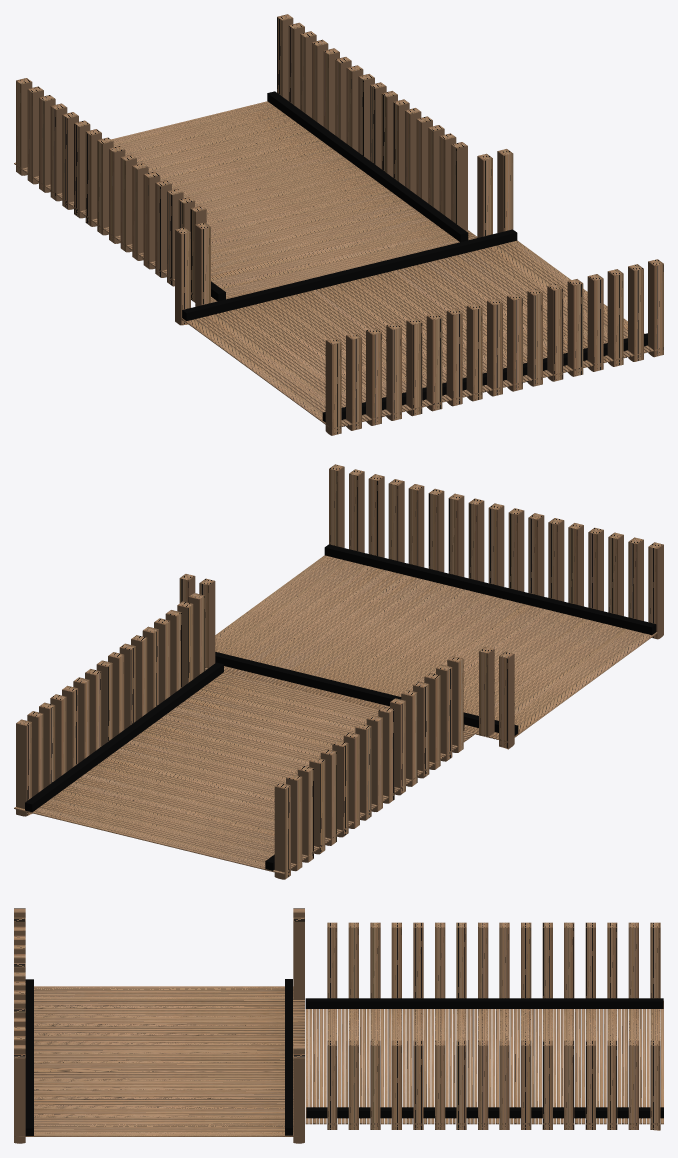
Rendered from pier.gltf.
3 renders of one model, top to bottom at view 1: azimuth 30°, elevation 25°; view 2: azimuth 150°, elevation 25°; view 3: azimuth 270°, elevation 25°, orthographic. The views are drawn at different scales.
Parts seen in each view (by area): view 1: Plane, Plane.001, pier stablizer.001, pier stablizer, pier stablizer 2.001; view 2: Plane, Plane.001, pier stablizer 2.001, pier stablizer, pier stablizer.001; view 3: Plane, Plane.001, pier stablizer 2, pier stablizer, pier stablizer 2.001, pier stablizer.001.
Boxes of the visible parts, bbox=[...] form: Plane: bbox=[14, 14, 477, 302]; Plane.001: bbox=[175, 149, 663, 435]; pier stablizer.001: bbox=[182, 229, 517, 320]; pier stablizer: bbox=[267, 91, 468, 242]; pier stablizer 2.001: bbox=[322, 333, 647, 422]; Plane: bbox=[14, 593, 475, 879]; Plane.001: bbox=[179, 464, 663, 749]; pier stablizer 2.001: bbox=[324, 544, 656, 634]; pier stablizer: bbox=[25, 662, 223, 812]; pier stablizer.001: bbox=[215, 652, 518, 735]; Plane: bbox=[305, 922, 663, 1130]; Plane.001: bbox=[14, 908, 304, 1143]; pier stablizer 2: bbox=[305, 998, 663, 1008]; pier stablizer: bbox=[306, 1107, 663, 1118]; pier stablizer 2.001: bbox=[25, 979, 33, 1135]; pier stablizer.001: bbox=[285, 979, 292, 1135].
Bounding box in the file's own units: 24.36 × 6.5 × 44.62.
6 materials, 2 textured.
